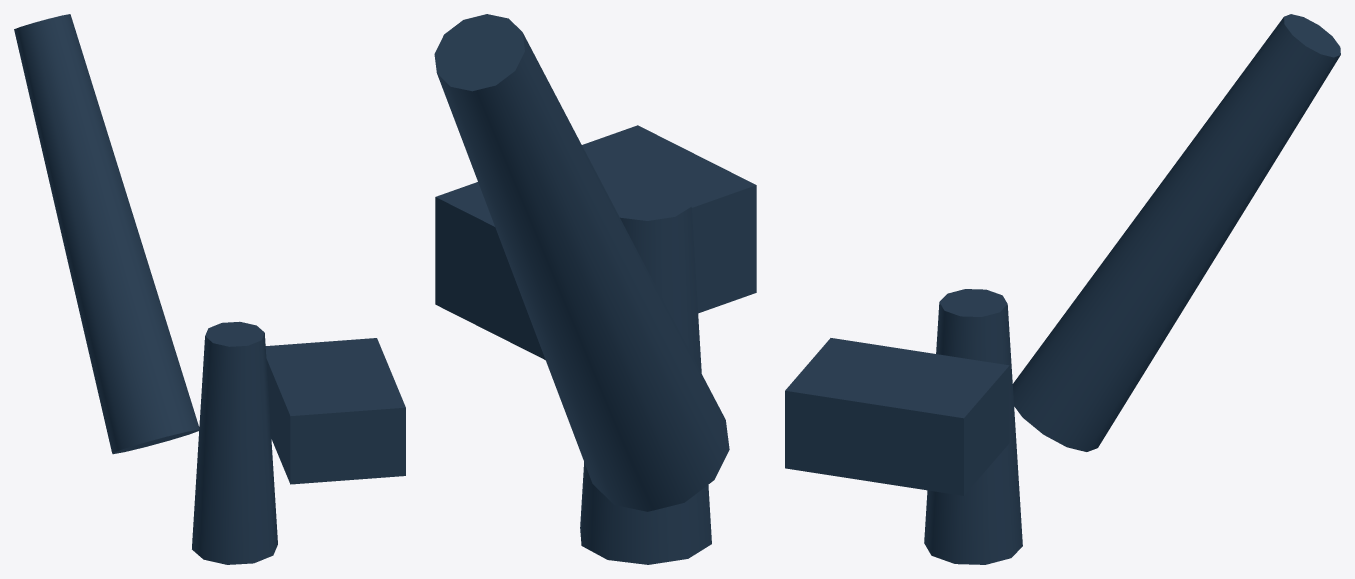
File: observation-rig.high.glb
The picture shows the model from 3 angles, left to right: view 1: azimuth 30°, elevation 25°; view 2: azimuth 150°, elevation 25°; view 3: azimuth 270°, elevation 25°; orthographic projection. The views are drawn at different scales.
Visible parts, largest first — view 1: observation-rig-body; view 2: observation-rig-body; view 3: observation-rig-body.
Boxes of the visible parts, box(x1,y1,x2,y2) form: observation-rig-body: box(14, 14, 405, 564); observation-rig-body: box(434, 14, 756, 564); observation-rig-body: box(785, 14, 1340, 564).
Bounding box in the file's own units: 1.52 × 2.9 × 2.92.
